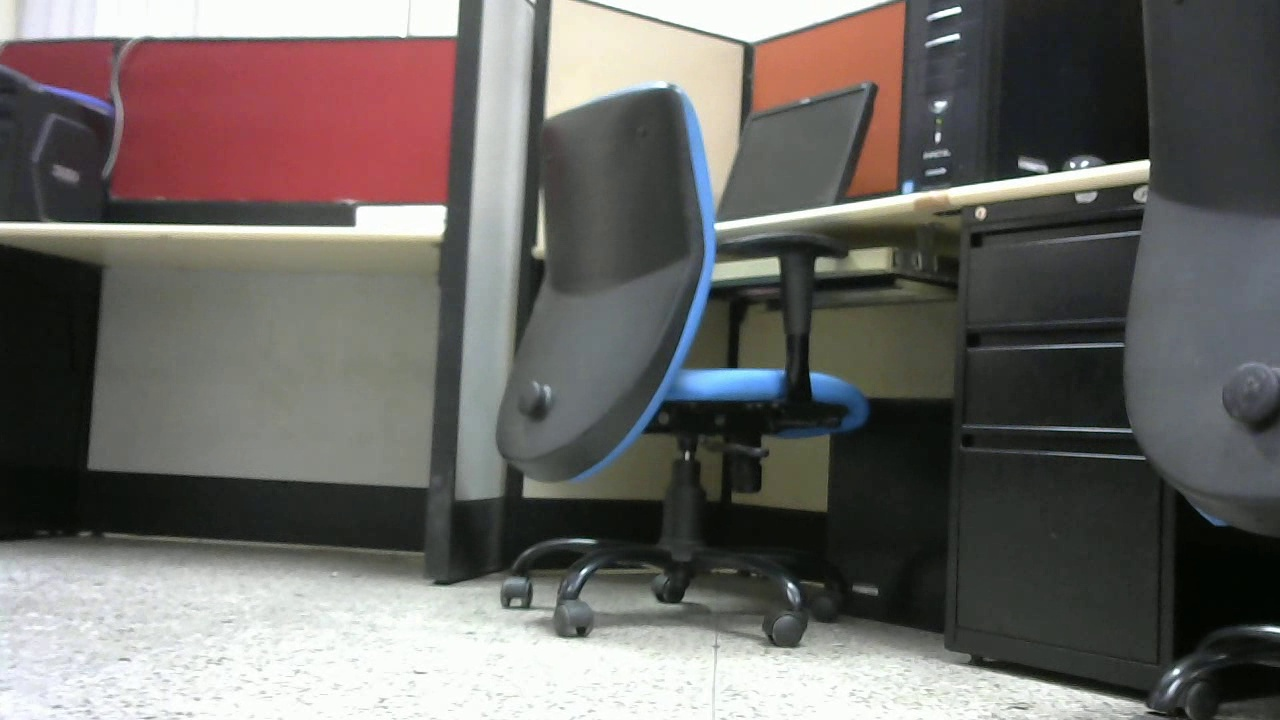chair: (497, 74, 870, 648)
